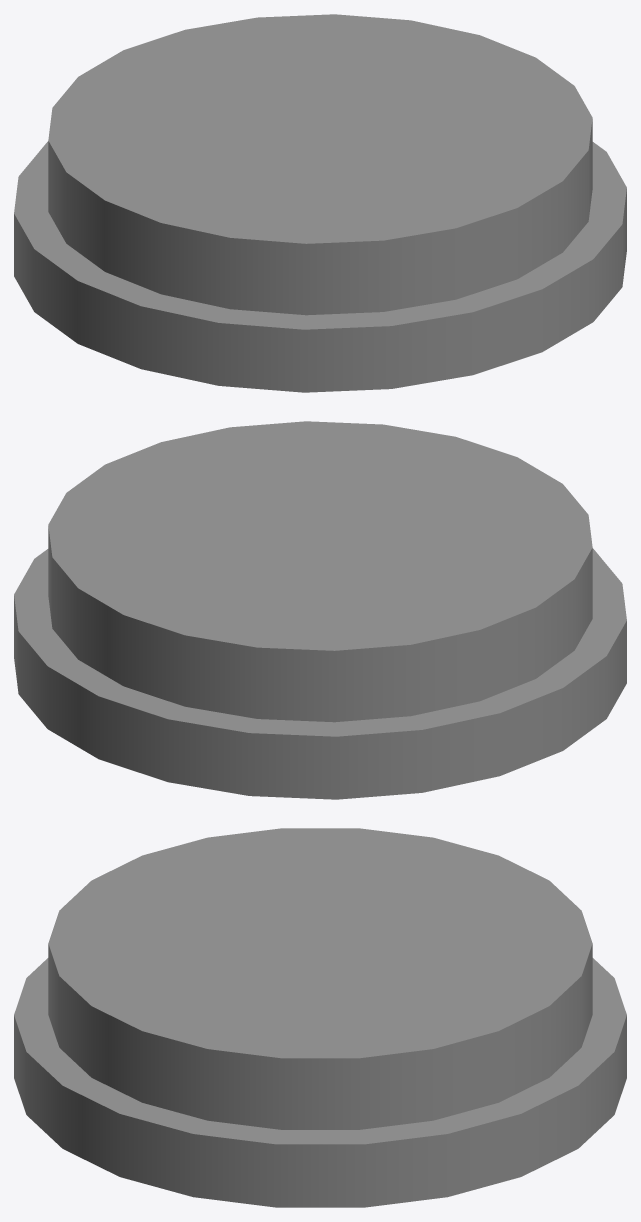
The model's file is M_Pillar_Base_0.fbx.
3 views of the same model, one above another, from view 1: azimuth 30°, elevation 25°; view 2: azimuth 150°, elevation 25°; view 3: azimuth 270°, elevation 25° (orthographic).
Parts seen in each view (by area): view 1: M_Pillar_Base_0; view 2: M_Pillar_Base_0; view 3: M_Pillar_Base_0.
Boxes of the visible parts, x1,y1,x2,y2 form: M_Pillar_Base_0: [14, 14, 626, 392]; M_Pillar_Base_0: [14, 421, 626, 799]; M_Pillar_Base_0: [14, 828, 626, 1207].
Bounding box in the file's own units: 216 × 52.48 × 216.
